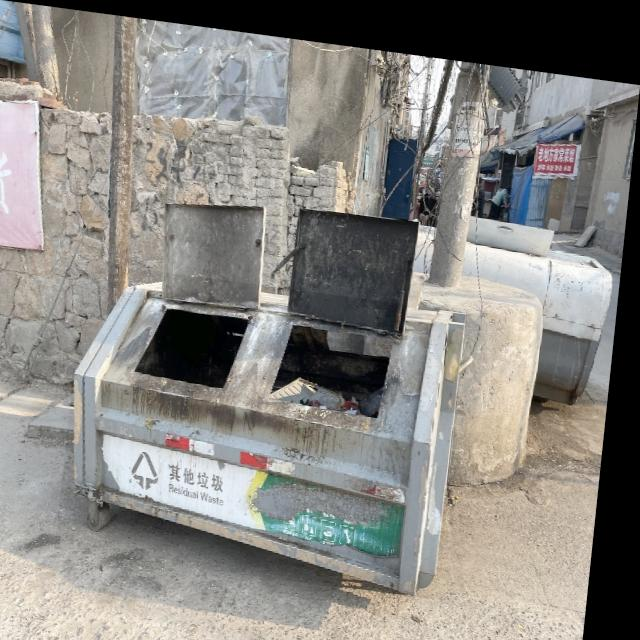garbage_bin: (66, 259, 473, 587)
